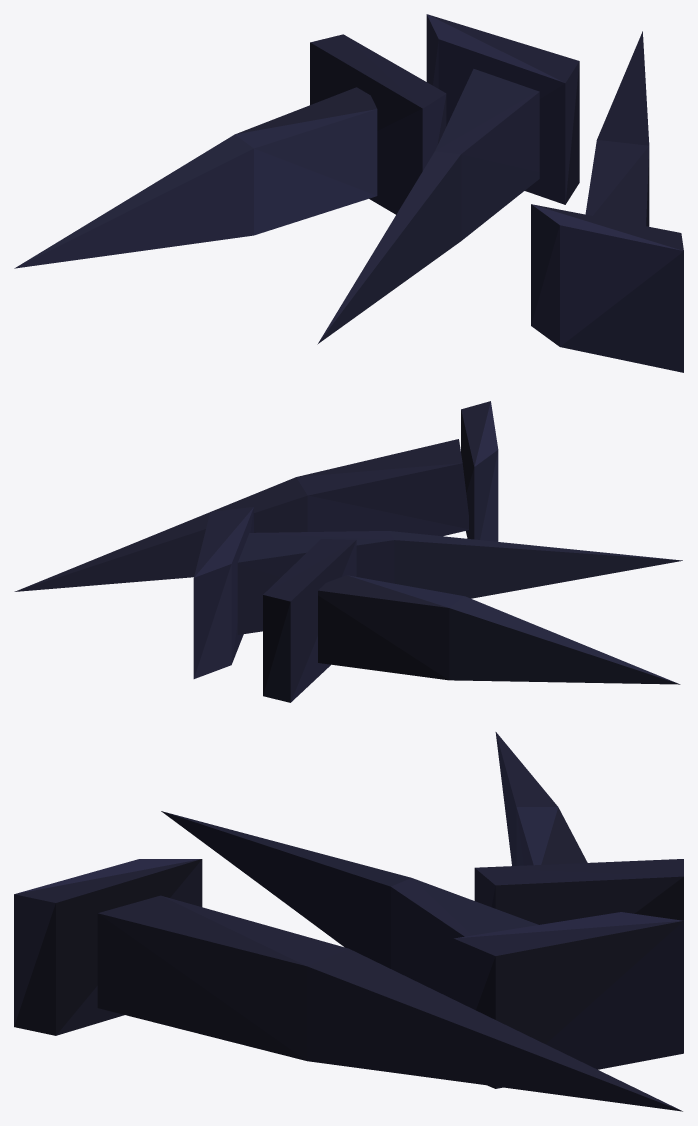
Rendered from mithril.obj.
3 renders of one model, top to bottom at view 1: azimuth 30°, elevation 25°; view 2: azimuth 150°, elevation 25°; view 3: azimuth 270°, elevation 25°, orthographic. The views are drawn at different scales.
Parts seen in each view (by area): view 1: Item Mithril nails 2026-10-08_15-41-34; view 2: Item Mithril nails 2026-10-08_15-41-34; view 3: Item Mithril nails 2026-10-08_15-41-34.
Part boxes in pixels (x1,y1,x2,y2): Item Mithril nails 2026-10-08_15-41-34: [14, 14, 683, 372]; Item Mithril nails 2026-10-08_15-41-34: [14, 401, 682, 702]; Item Mithril nails 2026-10-08_15-41-34: [14, 732, 683, 1111].
Bounding box in the file's own units: 43 × 7 × 32.
